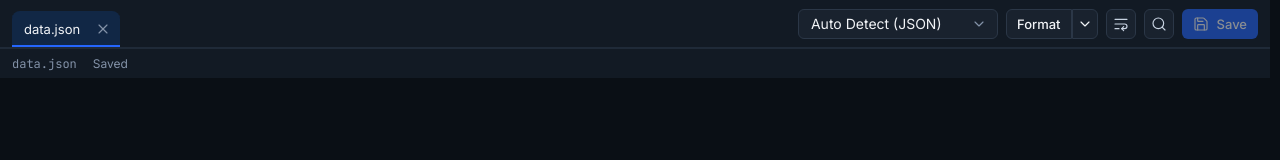
Test: EditorPane Format › offers Minify, then Beautify, and minifies and beautifies JSON
This screenshot has width=1280, height=160.
Expected: the button "Format" is enabled, [1006,8,1072,38]
Click the button named "More Format Options": (1084, 24) [1072,8,1098,38]
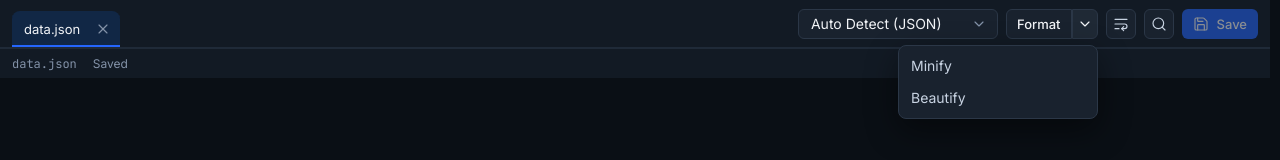
Now the menu items read "Minify", "Beautify", in this order
Click the menu item "Minify": (931, 66) [911,57,952,74]
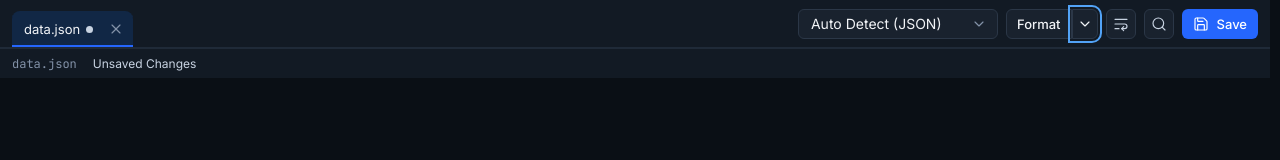
Now the text "Unsaved Changes" is shown, box [93,54,196,74]
Click the button named "More Format Options": (1084, 24) [1072,8,1098,38]
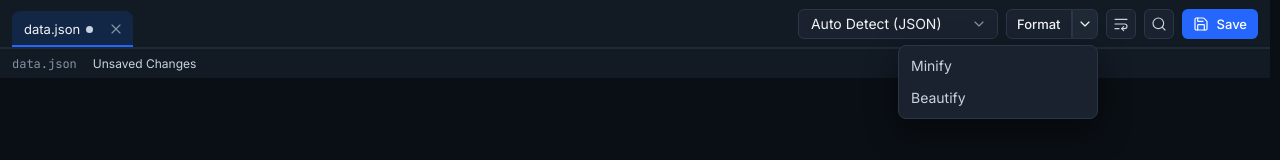
Click the menu item "Beautify": (938, 98) [911,89,966,106]
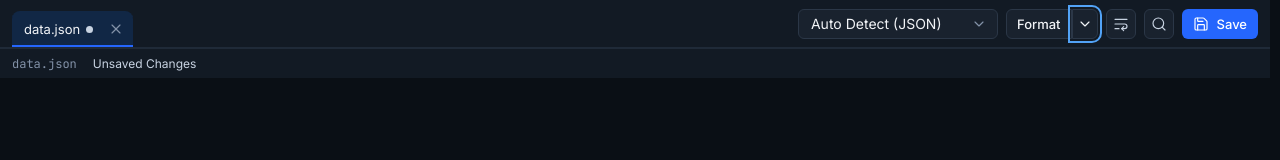
Now the menu is gone
